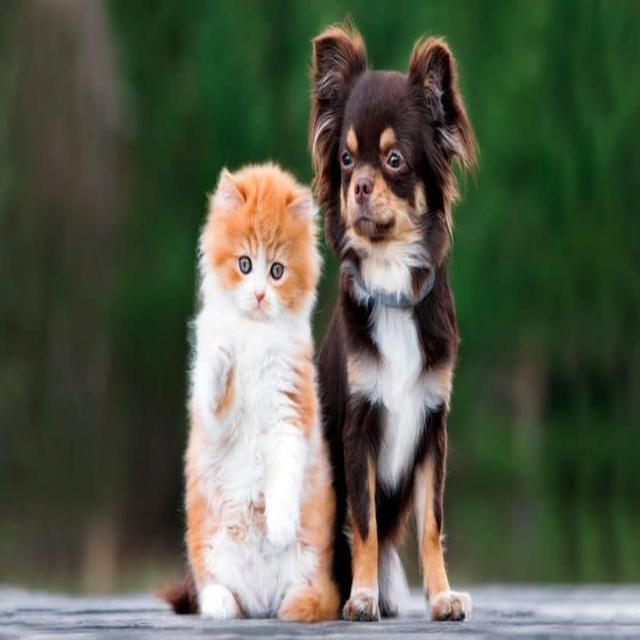dog: (311, 20, 471, 629), (180, 150, 336, 632)
